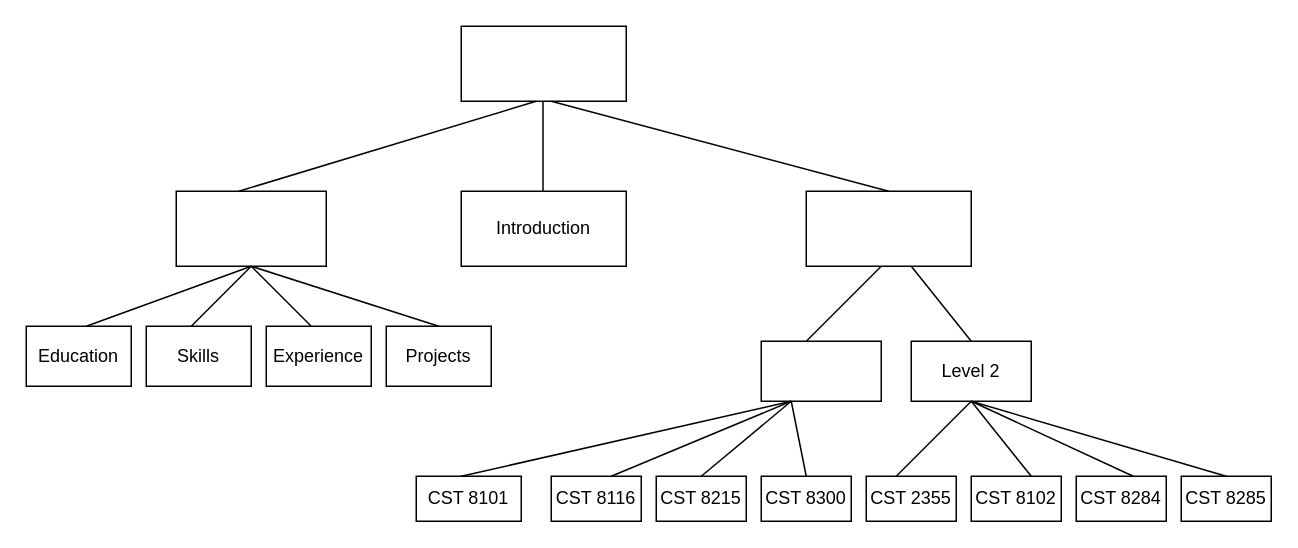
Some shapes in this 1298 by 548 pixel diagram are drawn without their labels. Each missing label, with the centre of its shape:
"Courses" belongs at pixel 888 228.
"HomePage" belongs at pixel 543 63.
"Level 1" belongs at pixel 820 370.
"Resume" belongs at pixel 250 228.
